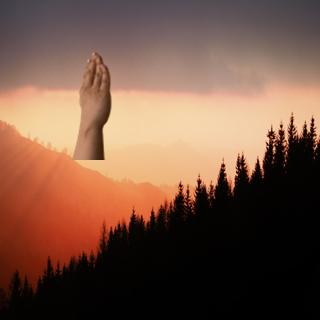RIGHT: (71, 48, 116, 134)
